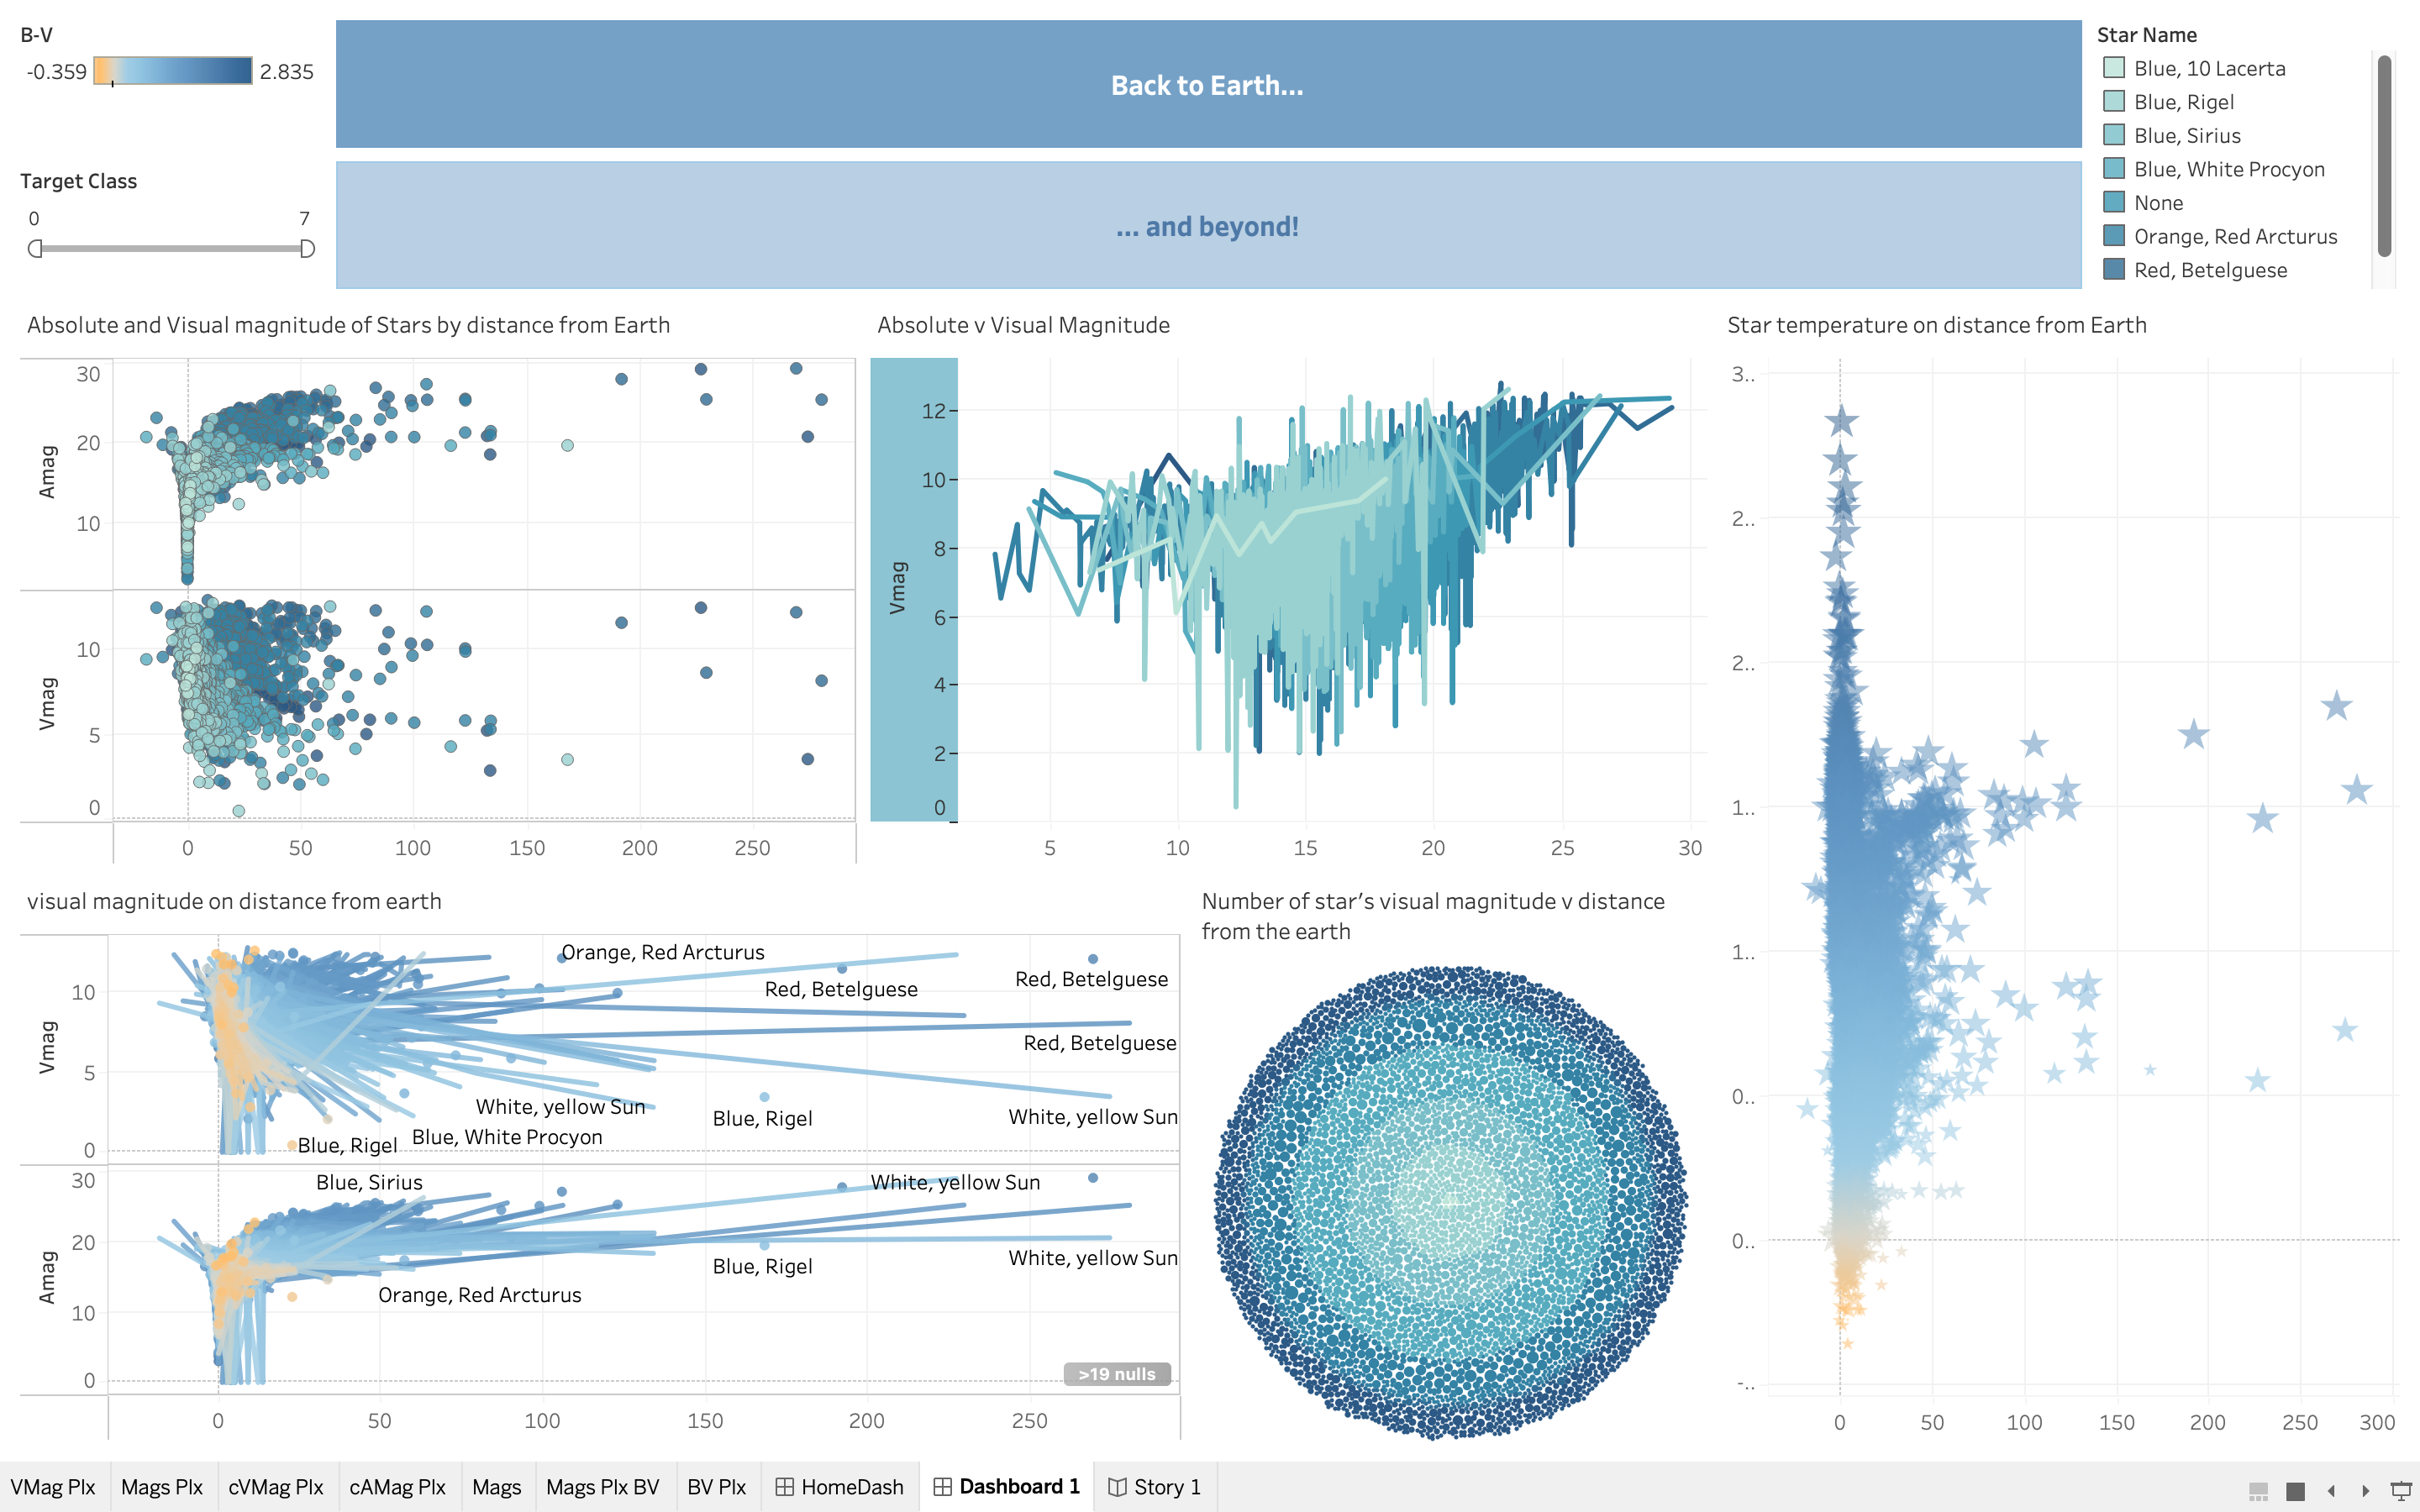

The dashboard page shown, as its layout file describes it:
{"tool":"tableau","page":{"name":"Dashboard 1","canvas":[1000,1000],"units":"permille","ordinal":0},"visuals":[{"type":"legend","title":"Mags Plx","param":"[federated.179gl0q1lsfo340zu8gg111kk66j].[none:B-V:qk]","box":[6.5,11.4,130.5,99.5]},{"type":"dashboard-object","box":[137,11.4,725.9,96]},{"type":"legend","title":"Mags Plx BV","param":"[federated.179gl0q1lsfo340zu8gg111kk66j].[none:StarName:nk]","box":[862.9,11.4,130.6,192]},{"type":"dashboard-object","box":[137,107.4,725.9,96]},{"type":"filter","title":"Mags Plx BV","param":"[federated.179gl0q1lsfo340zu8gg111kk66j].[none:TargetClass:qk]","box":[6.5,110.9,130.5,92.4]},{"type":"worksheet","title":"Mags Plx BV","mark":"Multipolygon","rows":["Amag","Vmag"],"cols":["Plx"],"box":[6.5,203.3,350.7,392.6]},{"type":"worksheet","title":"Mags","mark":"Automatic","rows":["Vmag"],"cols":["Amag"],"box":[357.2,203.3,350.8,392.6]},{"type":"worksheet","title":"BV Plx","mark":"Shape","rows":["B-V"],"cols":["Plx"],"box":[708,203.3,285.5,785.3]},{"type":"worksheet","title":"Mags Plx","mark":"Automatic","rows":["Vmag","Amag"],"cols":["Plx"],"box":[6.5,596,484.4,392.7]},{"type":"worksheet","title":"cVMag Plx","mark":"Circle","box":[490.9,596,217,392.7]}]}

Visuals, with their boxes on the dashboard's canvas, which has no fixed pixel size, in thousandths of its width and height (x1, y1, x2, y2). These are canvas units, not pixel positions in the 2420x1512 screenshot, which may show the page scaled, cropped or inside an application window:
"Mags Plx" legend: x1=6, y1=11, x2=137, y2=111
dashboard-object: x1=137, y1=11, x2=863, y2=107
"Mags Plx BV" legend: x1=863, y1=11, x2=994, y2=203
dashboard-object: x1=137, y1=107, x2=863, y2=203
"Mags Plx BV" filter: x1=6, y1=111, x2=137, y2=203
"Mags Plx BV" worksheet (Multipolygon marks): x1=6, y1=203, x2=357, y2=596
"Mags" worksheet: x1=357, y1=203, x2=708, y2=596
"BV Plx" worksheet (Shape marks): x1=708, y1=203, x2=994, y2=989
"Mags Plx" worksheet: x1=6, y1=596, x2=491, y2=989
"cVMag Plx" worksheet (Circle marks): x1=491, y1=596, x2=708, y2=989
